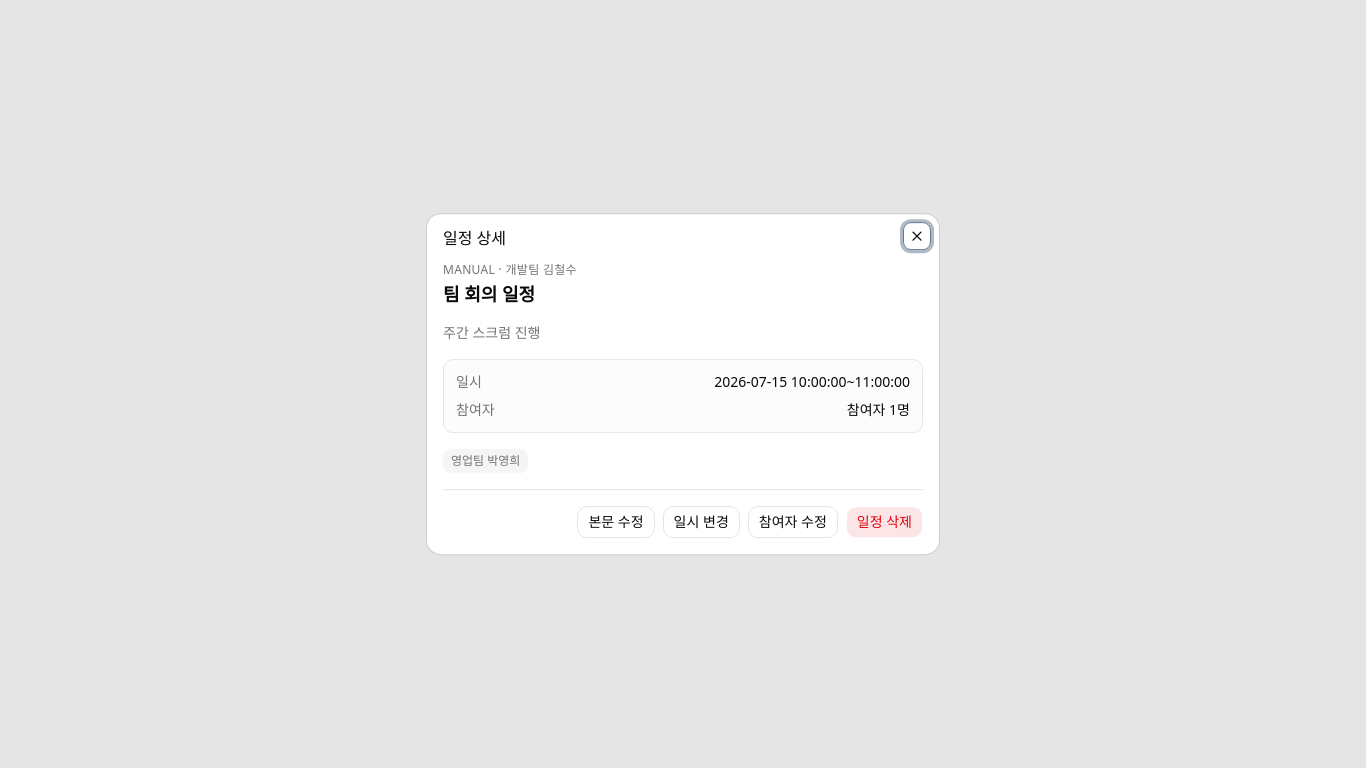
Scenario: ScheduleDetailDialog - 수정 뷰 전환/프리필 › 본문 수정을 클릭하면 조회 값(제목/내용)으로 프리필된다
The width and height of the screenshot is (1366, 768).
Click the button "본문 수정" at (616, 522), box [577,506,655,538]
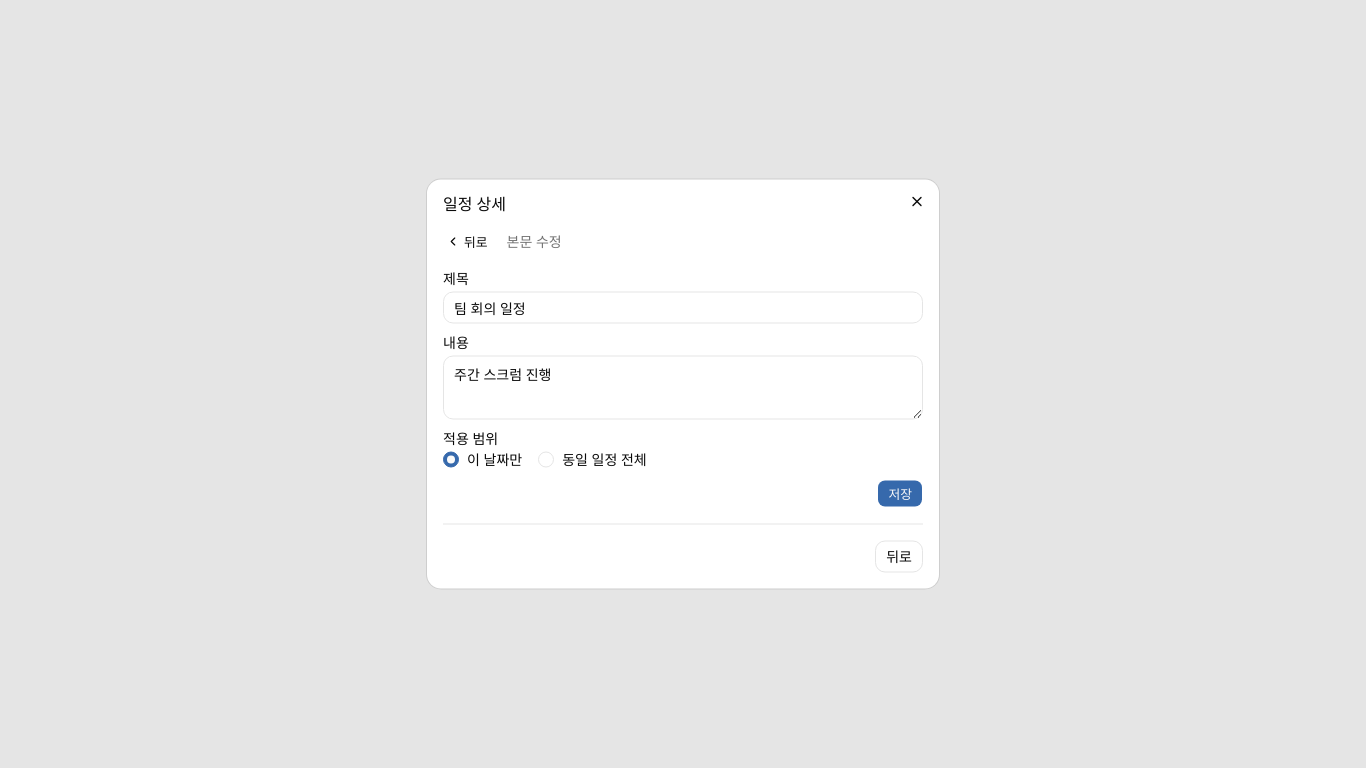
Expected: the field labelled "제목" holds "팀 회의 일정", [443,292,923,324]
Expected: the text box labelled "내용" holds "주간 스크럼 진행", [443,356,923,420]
Expected: the radio button next to "이 날짜만" is checked, [443,452,459,468]
